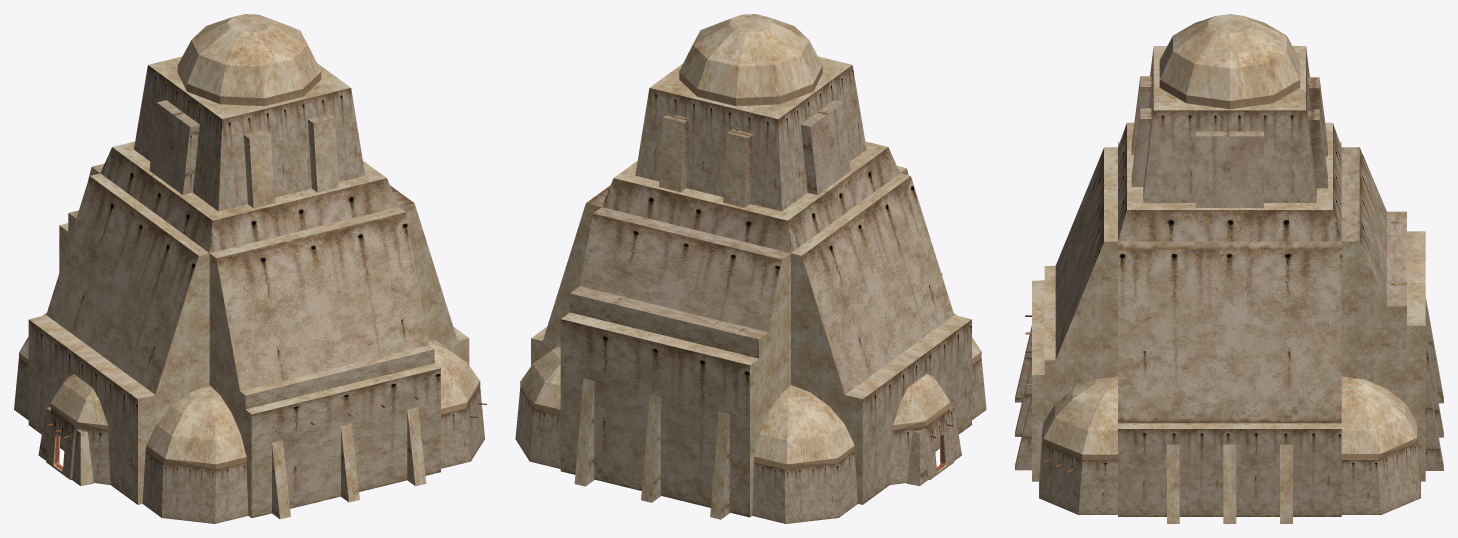
The model's file is thm_tato_imprv_building_s11_r0_mesh_l1.fbx.
3 renders of one model, left to right at view 1: azimuth 30°, elevation 25°; view 2: azimuth 150°, elevation 25°; view 3: azimuth 270°, elevation 25°, orthographic. The views are drawn at different scales.
Visible parts, largest first — view 1: mesh_node; view 2: mesh_node; view 3: mesh_node.
Part boxes in pixels (x1=…): mesh_node: x1=14, y1=14, x2=486, y2=523; mesh_node: x1=515, y1=14, x2=986, y2=523; mesh_node: x1=1015, y1=14, x2=1443, y2=523.
Bounding box in the file's own units: 39.02 × 40.11 × 37.88.
